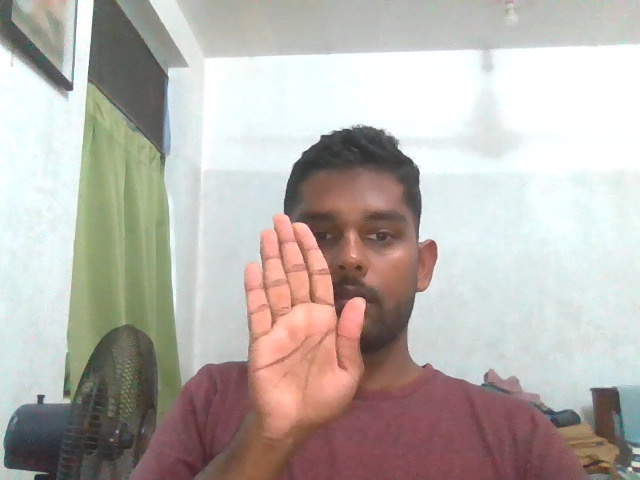bye: (234, 208, 375, 442)
